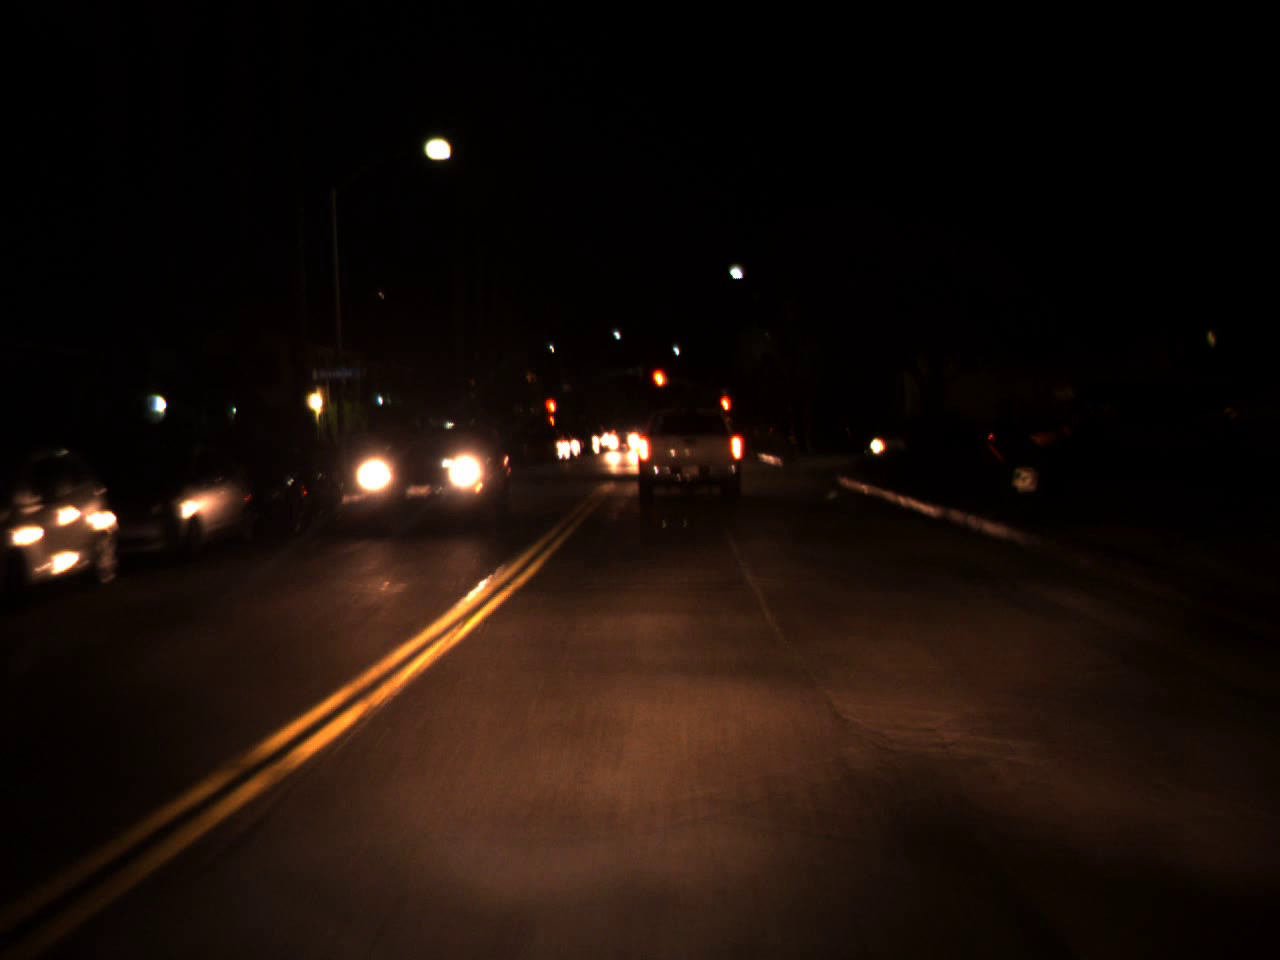stop: (651, 366, 669, 409), (718, 392, 731, 429), (543, 397, 558, 429)
